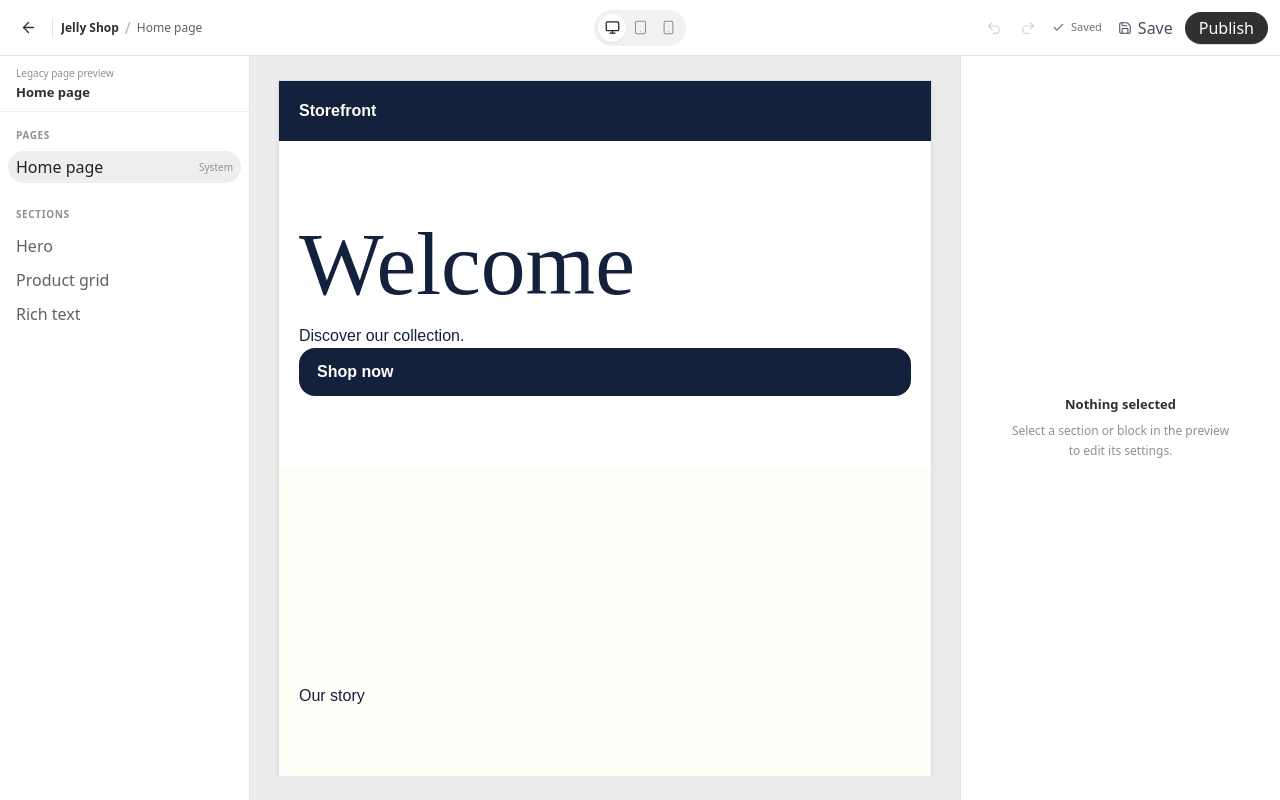
editor shell › stops autosave and reports a revision conflict without overwriting
Click the button with aria-label "Hero section" at [124, 246], box [8, 230, 241, 262]
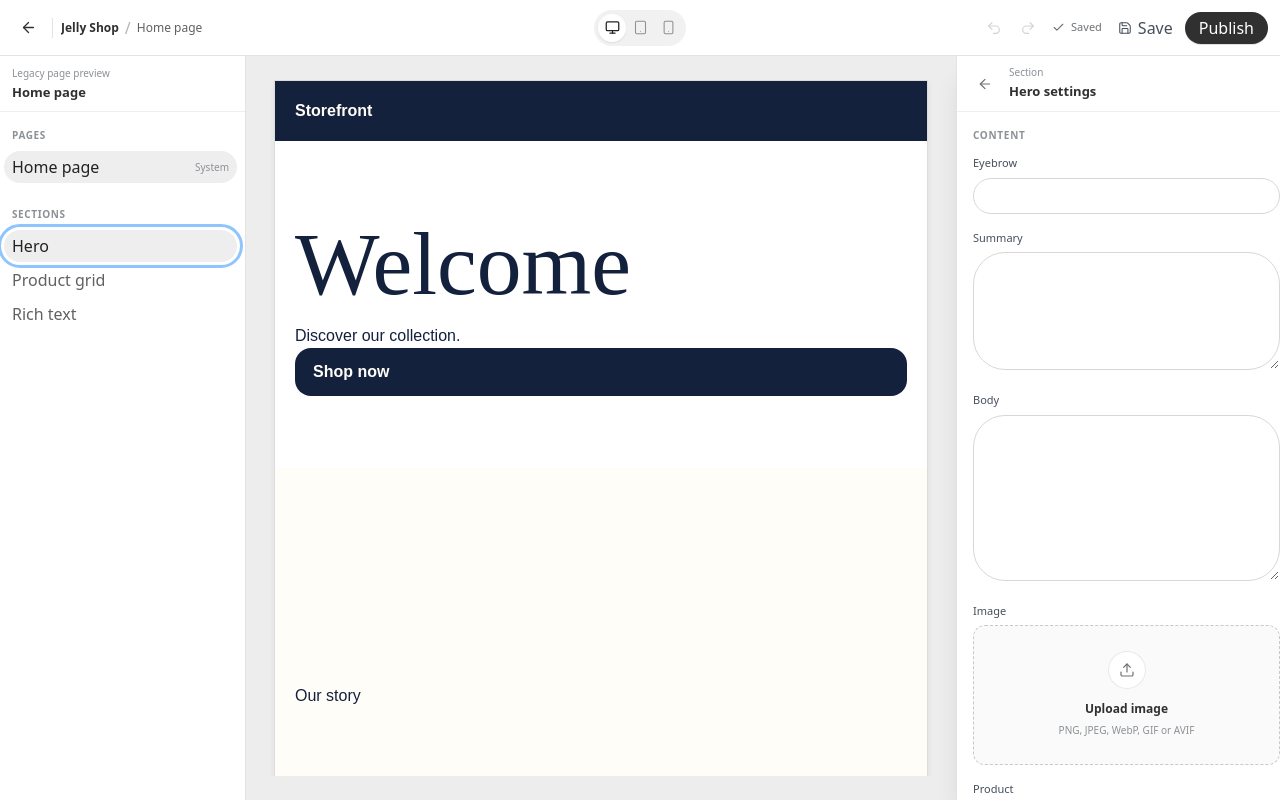
Type "New" into the field labelled "Eyebrow" at [1126, 196], box [973, 178, 1279, 214]
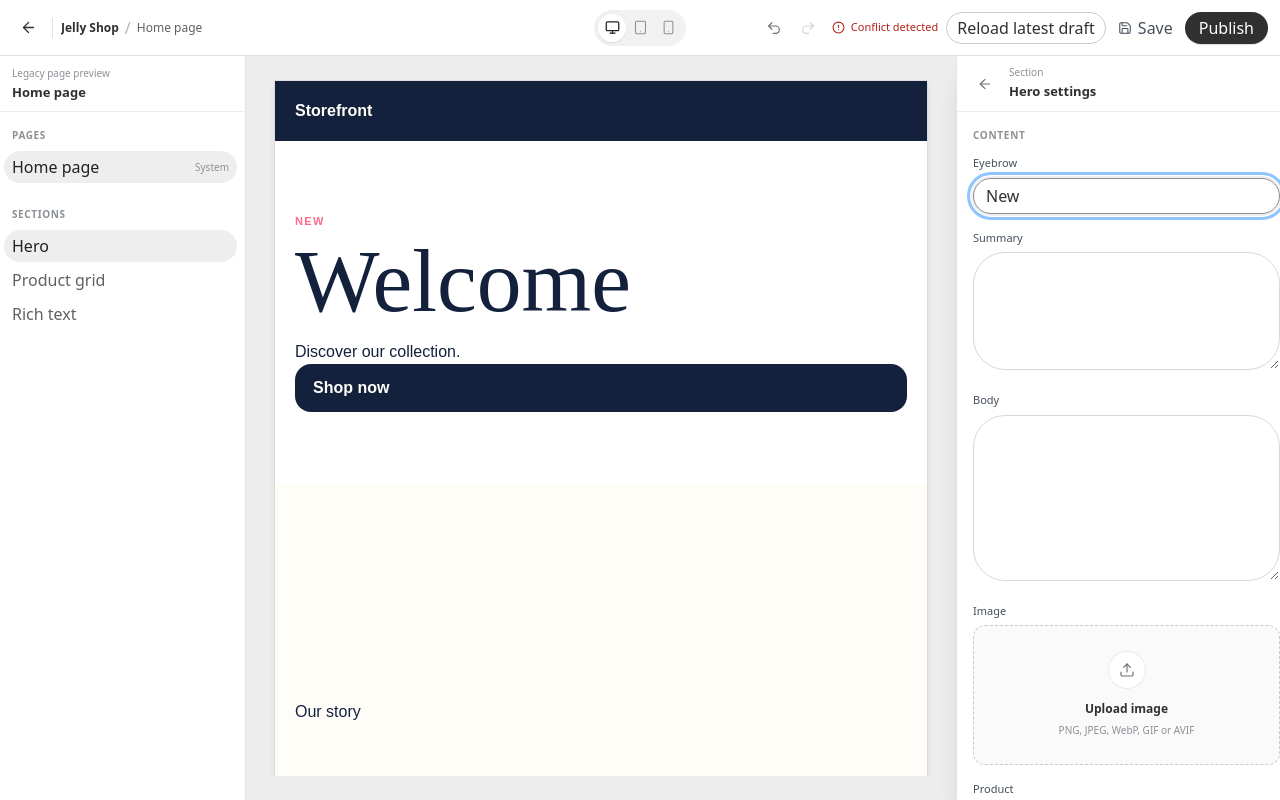
Expected: the text "Conflict detected" is shown, [851, 19, 938, 36]
Click the button "Reload latest draft" at [1026, 28], box [946, 12, 1106, 44]
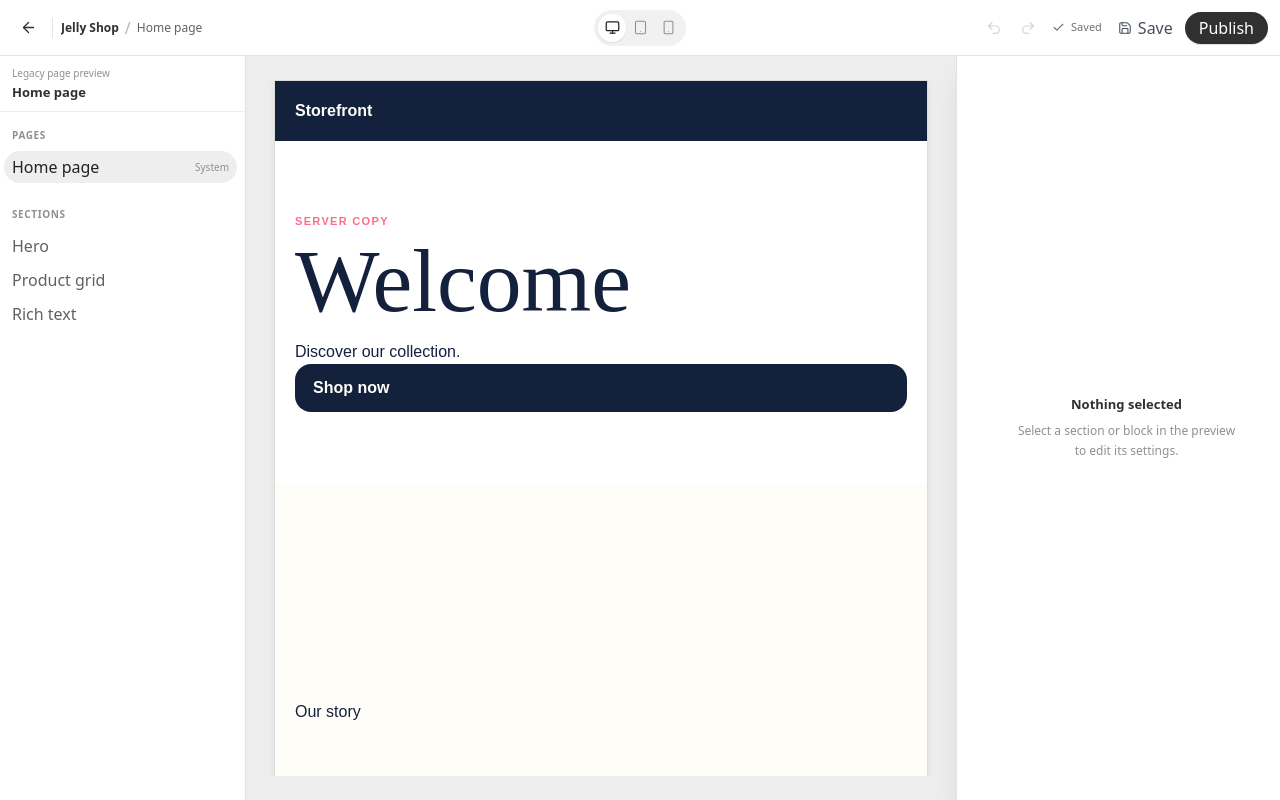
Expected: the text "Server copy" is shown, [295, 215, 389, 227]
